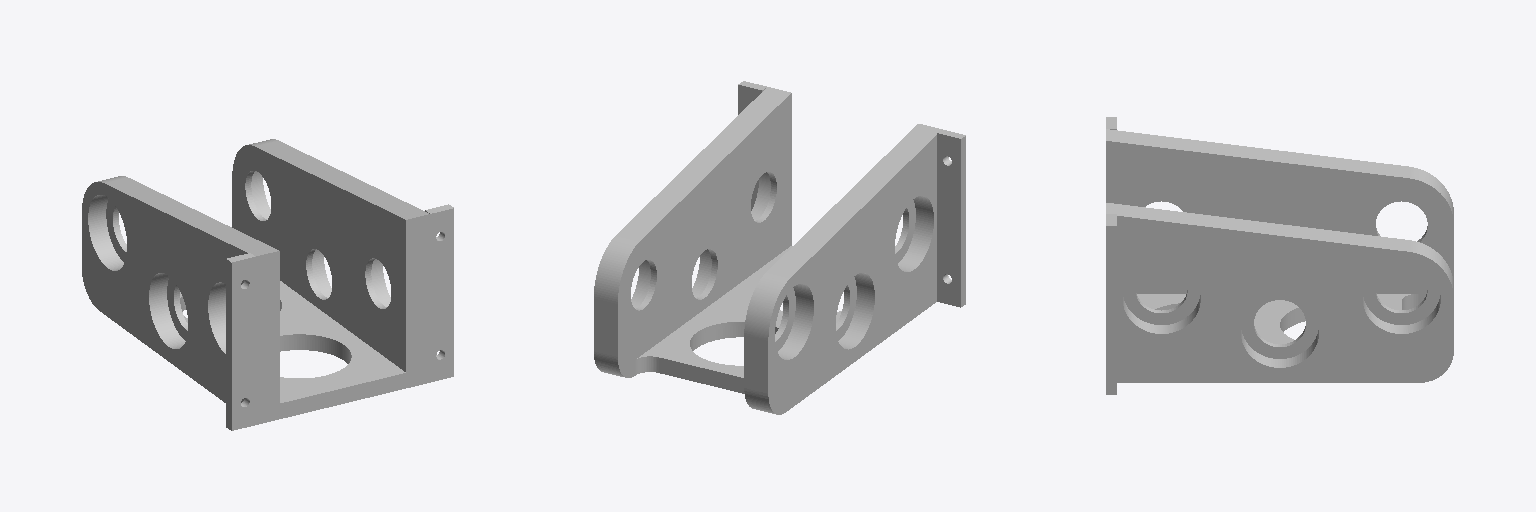
Rendered from tow_guide_1x.obj.
The picture shows the model from 3 angles: view 1: azimuth 30°, elevation 25°; view 2: azimuth 150°, elevation 25°; view 3: azimuth 270°, elevation 25°; orthographic projection.
Visible parts, largest first — view 1: tow_guide_1x; view 2: tow_guide_1x; view 3: tow_guide_1x.
Boxes of the visible parts, x1=… form: tow_guide_1x: x1=82, y1=139, x2=453, y2=430; tow_guide_1x: x1=594, y1=81, x2=965, y2=414; tow_guide_1x: x1=1106, y1=117, x2=1453, y2=394.
Size of the model in its own units: 74 by 53.5 by 100.